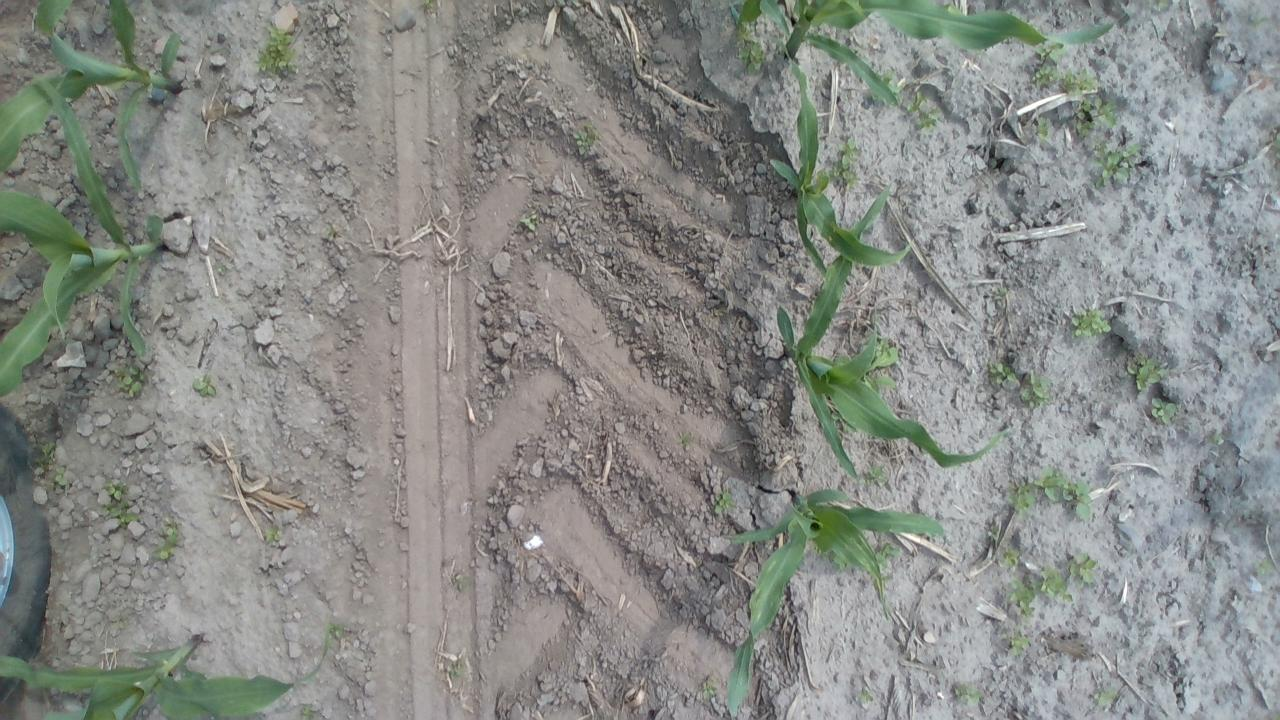Maize: (776, 180, 1016, 485), (0, 68, 166, 399), (718, 481, 947, 720), (732, 1, 1131, 110), (761, 37, 918, 276), (0, 1, 185, 200), (0, 626, 332, 718)
Weeds: (1021, 466, 1094, 520), (1089, 139, 1142, 192), (252, 23, 300, 78), (100, 478, 140, 526), (1068, 304, 1114, 341), (834, 137, 862, 193), (33, 437, 65, 484), (736, 28, 770, 72), (904, 92, 942, 131), (1076, 98, 1120, 131), (1128, 354, 1164, 393), (1018, 370, 1052, 408), (860, 362, 900, 394), (1036, 568, 1073, 602), (153, 520, 182, 563), (114, 360, 148, 396), (1060, 68, 1099, 99), (1007, 577, 1038, 616), (1005, 482, 1037, 516), (1069, 552, 1100, 584), (987, 356, 1018, 387), (1030, 60, 1062, 88), (573, 121, 598, 156), (874, 540, 902, 571), (190, 371, 218, 400), (710, 487, 736, 518), (1034, 42, 1066, 64), (1151, 399, 1177, 426), (1004, 631, 1032, 655), (443, 657, 470, 681), (954, 684, 980, 707), (861, 464, 888, 486), (873, 68, 902, 88), (1094, 686, 1120, 708), (698, 674, 718, 702), (47, 469, 71, 492), (323, 620, 347, 642), (453, 568, 475, 592), (870, 340, 896, 360), (674, 430, 696, 453), (1000, 545, 1022, 568), (520, 208, 542, 231), (853, 685, 878, 705), (262, 524, 284, 546), (990, 284, 1013, 304), (1034, 116, 1050, 143), (1254, 556, 1274, 576), (299, 701, 322, 718), (830, 553, 850, 571), (1210, 429, 1226, 448), (1152, 0, 1174, 13), (325, 222, 339, 242), (833, 352, 853, 366), (986, 524, 1000, 541), (419, 0, 436, 13)
